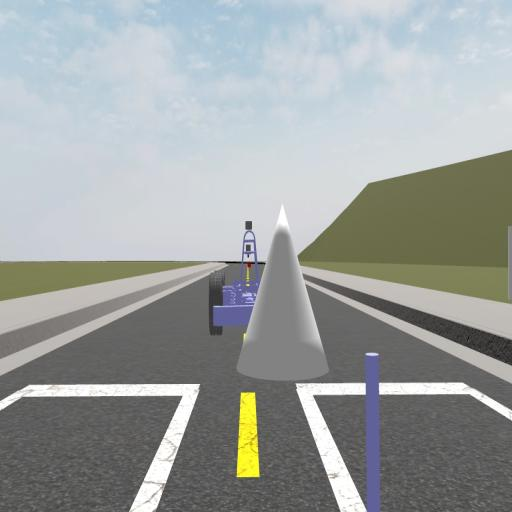ERP-42: (208, 225, 260, 332)
